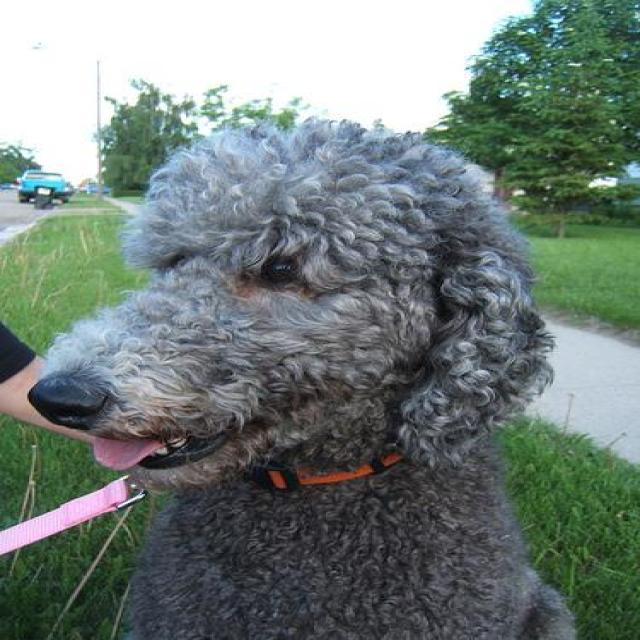dog: (26, 83, 587, 640)
